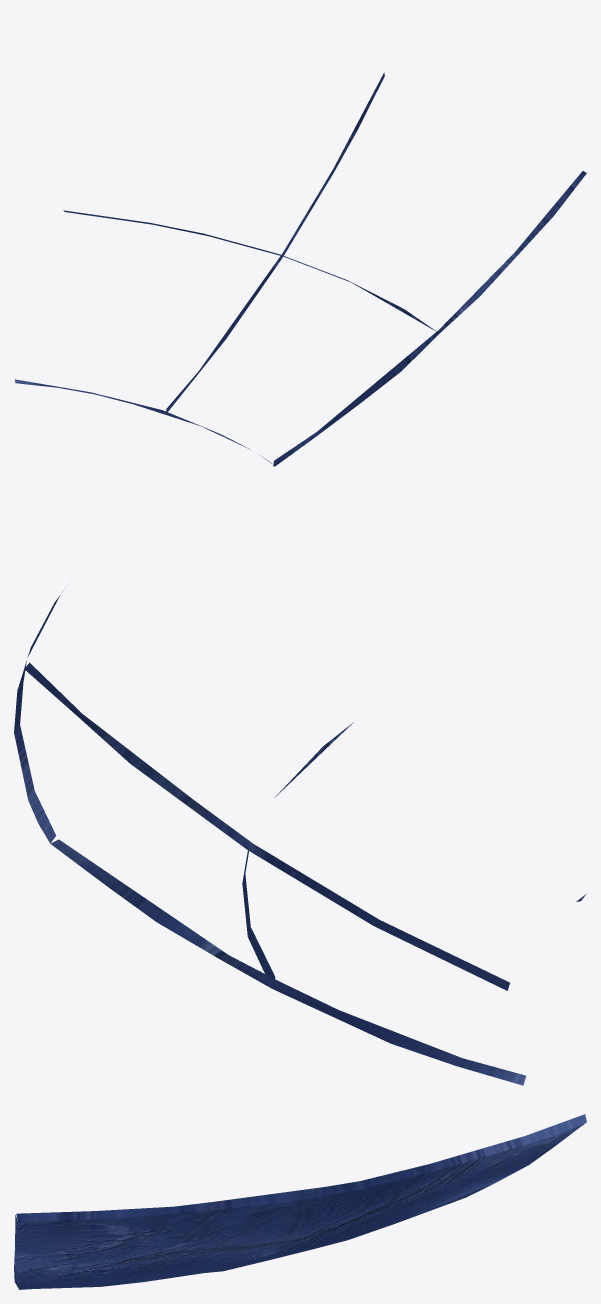
3 views of the same model, one above another, from view 1: azimuth 30°, elevation 25°; view 2: azimuth 150°, elevation 25°; view 3: azimuth 270°, elevation 25° (orthographic). The views are drawn at different scales.
Bounding box in the file's own units: 2826894 × 1436837 × 3223608.
Materials: 1 (1 with a texture image).
